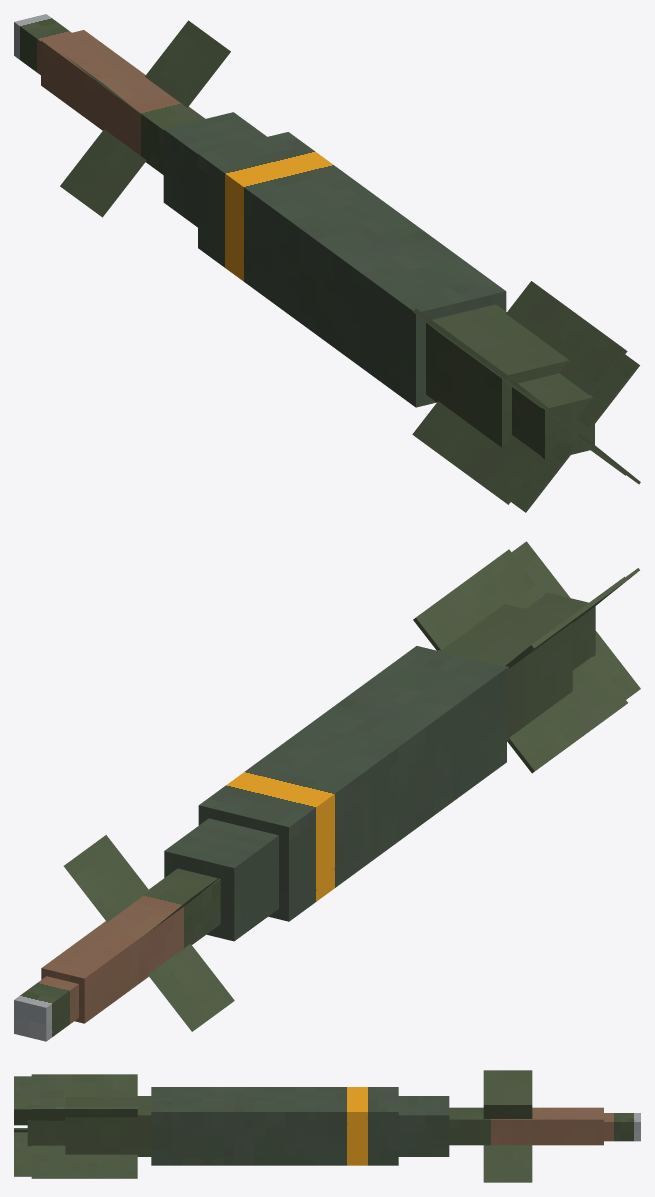
The model's file is gbu24.obj.
3 renders of one model, top to bottom at view 1: azimuth 30°, elevation 25°; view 2: azimuth 150°, elevation 25°; view 3: azimuth 270°, elevation 25°, orthographic. The views are drawn at different scales.
Visible parts, largest first — view 1: cube3, cube6, cube1, cube2, cube8, cube4, cube0, cube7, cube5, cube10, cube11; view 2: cube3, cube2, cube6, cube1, cube4, cube8, cube5, cube7, cube0, cube10; view 3: cube3, cube10, cube2, cube1, cube9, cube4, cube6, cube11, cube0, cube5, cube8, cube7.
Part boxes in pixels (x1=…): cube3: x1=198, y1=132, x2=506, y2=407; cube6: x1=412, y1=281, x2=627, y2=504; cube1: x1=426, y1=304, x2=569, y2=447; cube2: x1=41, y1=30, x2=205, y2=174; cube8: x1=60, y1=20, x2=230, y2=217; cube4: x1=163, y1=112, x2=266, y2=227; cube0: x1=512, y1=373, x2=594, y2=459; cube7: x1=509, y1=353, x2=639, y2=512; cube5: x1=14, y1=14, x2=71, y2=74; cube10: x1=413, y1=308, x2=625, y2=475; cube11: x1=509, y1=379, x2=640, y2=484; cube3: x1=198, y1=646, x2=506, y2=921; cube2: x1=41, y1=868, x2=220, y2=1023; cube6: x1=413, y1=549, x2=627, y2=773; cube1: x1=438, y1=604, x2=572, y2=741; cube4: x1=164, y1=818, x2=278, y2=941; cube8: x1=63, y1=835, x2=234, y2=1031; cube5: x1=14, y1=976, x2=78, y2=1041; cube7: x1=511, y1=541, x2=640, y2=699; cube0: x1=526, y1=592, x2=595, y2=670; cube10: x1=505, y1=576, x2=627, y2=668; cube3: x1=151, y1=1087, x2=398, y2=1165; cube10: x1=31, y1=1074, x2=137, y2=1178; cube2: x1=449, y1=1107, x2=603, y2=1145; cube1: x1=65, y1=1096, x2=151, y2=1156; cube9: x1=483, y1=1070, x2=532, y2=1182; cube4: x1=398, y1=1096, x2=449, y2=1156; cube6: x1=31, y1=1106, x2=137, y2=1120; cube11: x1=14, y1=1076, x2=31, y2=1176; cube0: x1=27, y1=1105, x2=65, y2=1146; cube5: x1=604, y1=1113, x2=640, y2=1141; cube8: x1=483, y1=1105, x2=532, y2=1118; cube7: x1=14, y1=1107, x2=31, y2=1132.
Size of the model in its own units: 0.6021 by 0.6021 by 4.44.
